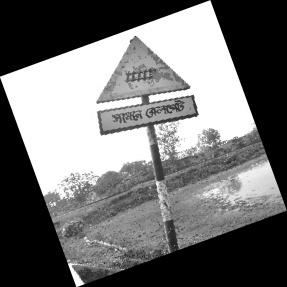Rail-crossing: (95, 35, 197, 136)
